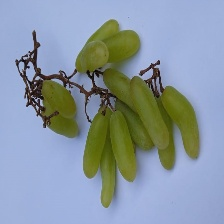grapes: (49, 52, 186, 205)
